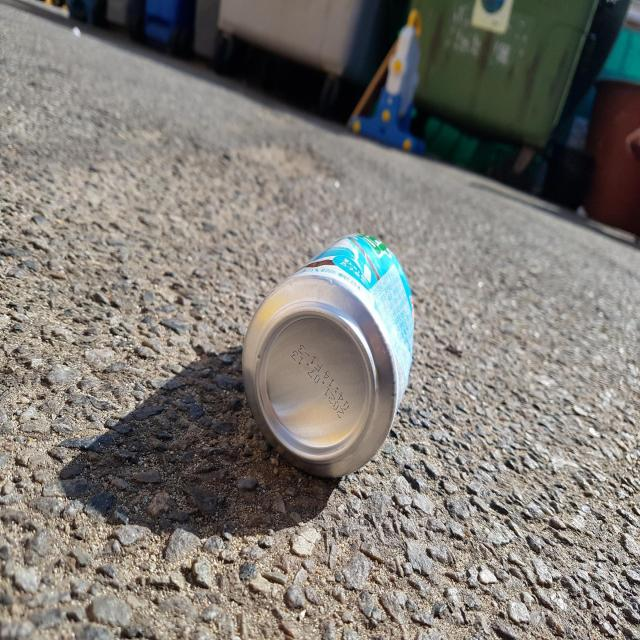can: (242, 234, 414, 478)
